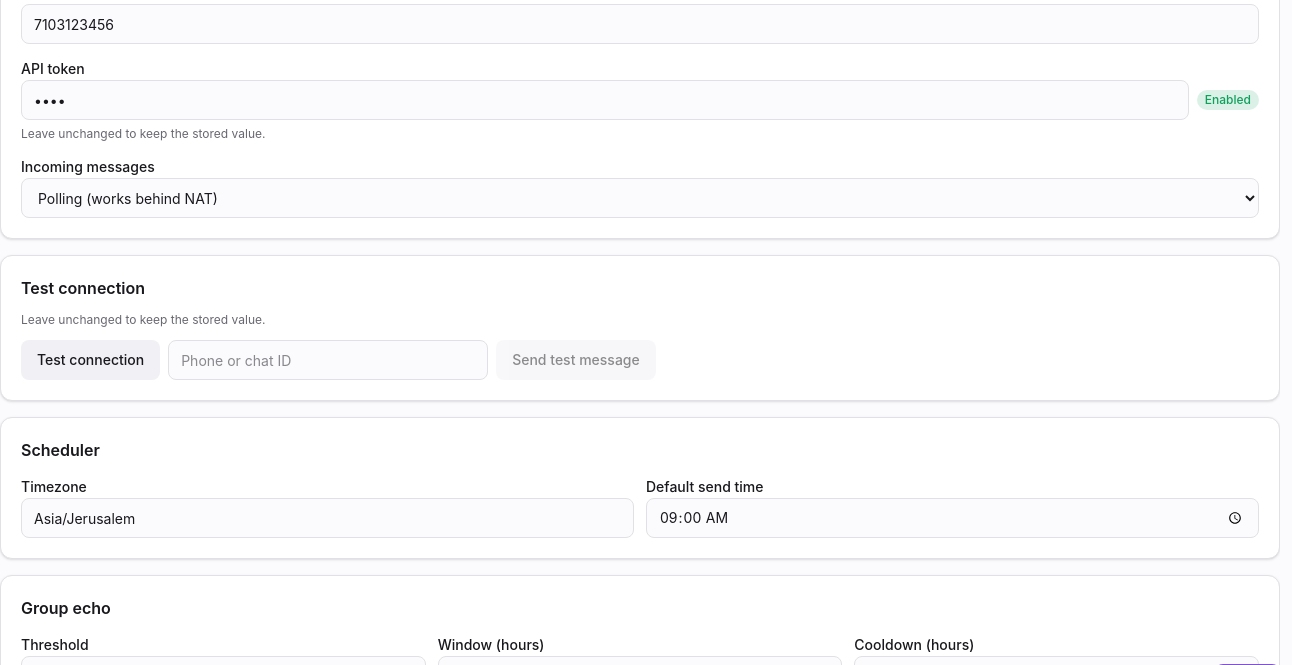
Scenario: provider tools › surfaces a failed connection check instead of staying silent
(page scrolled)
Step 1. Click the button "Test connection" → point(91, 360), box [21,340,160,380]
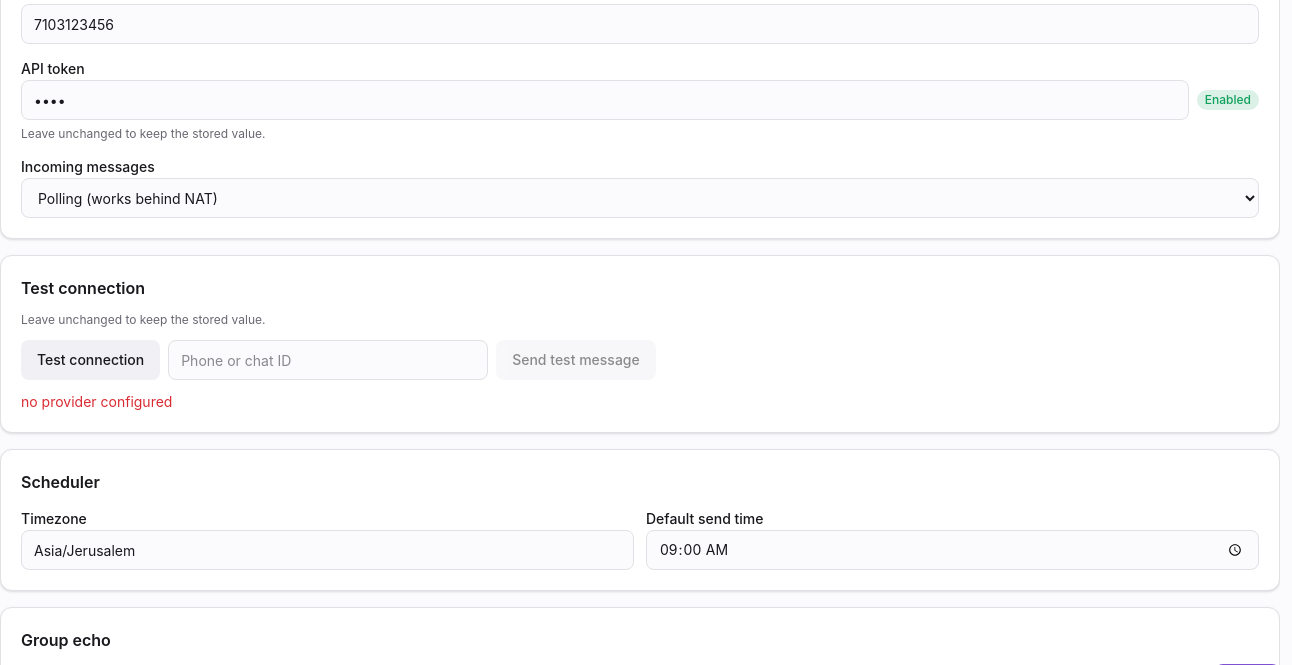
expect the text "no provider configured" is shown: met, box [21,393,172,410]
